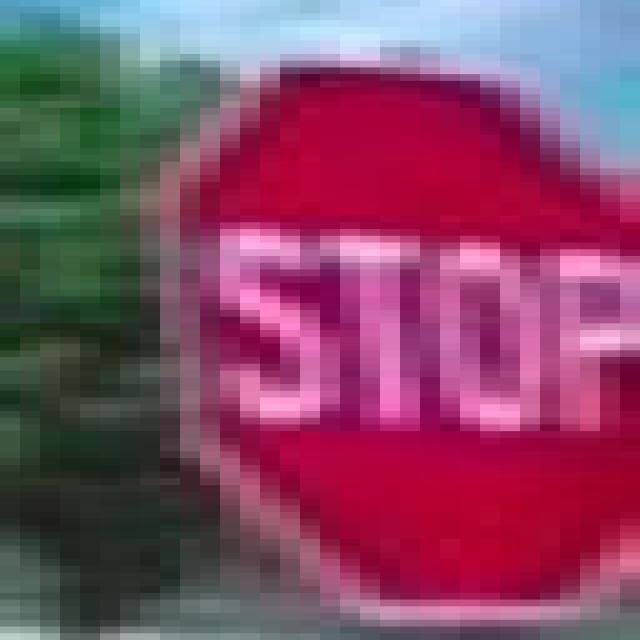Stop-Sign: (250, 70, 633, 595)
